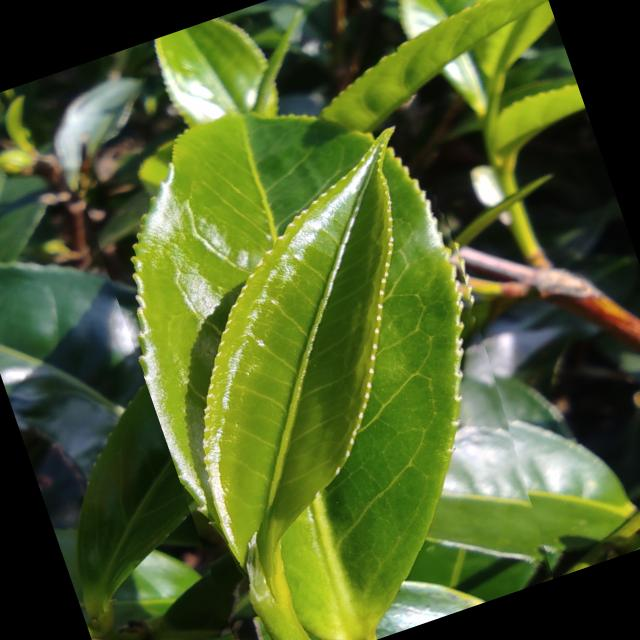Category B(2-4 days): (68, 44, 576, 640)
